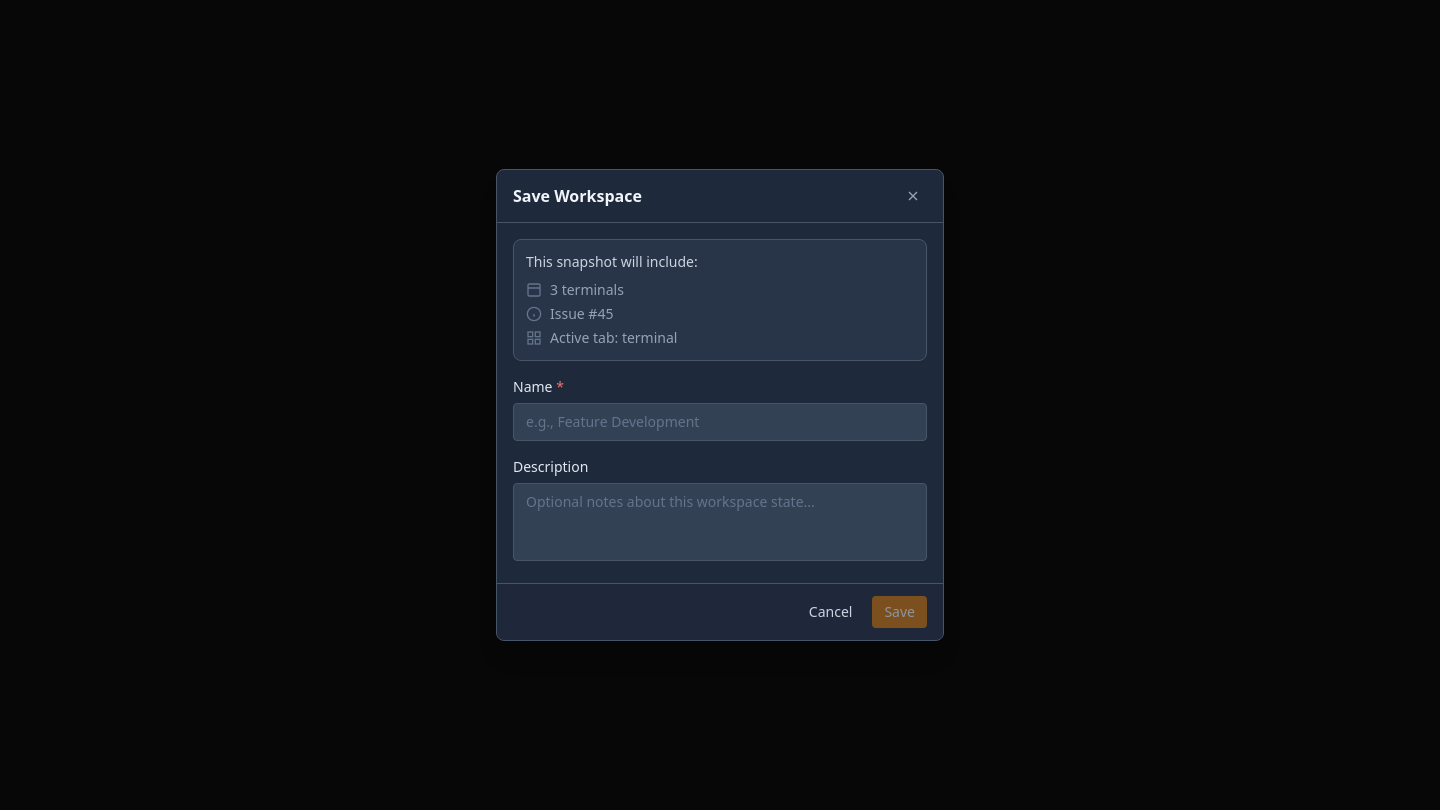
it: SaveWorkspaceDialog › Name input › should enable Save button when name is provided
Type "My Workspace" into the field labelled "Name *".
click(720, 422); type("My Workspace")  # box [513,403,927,441]
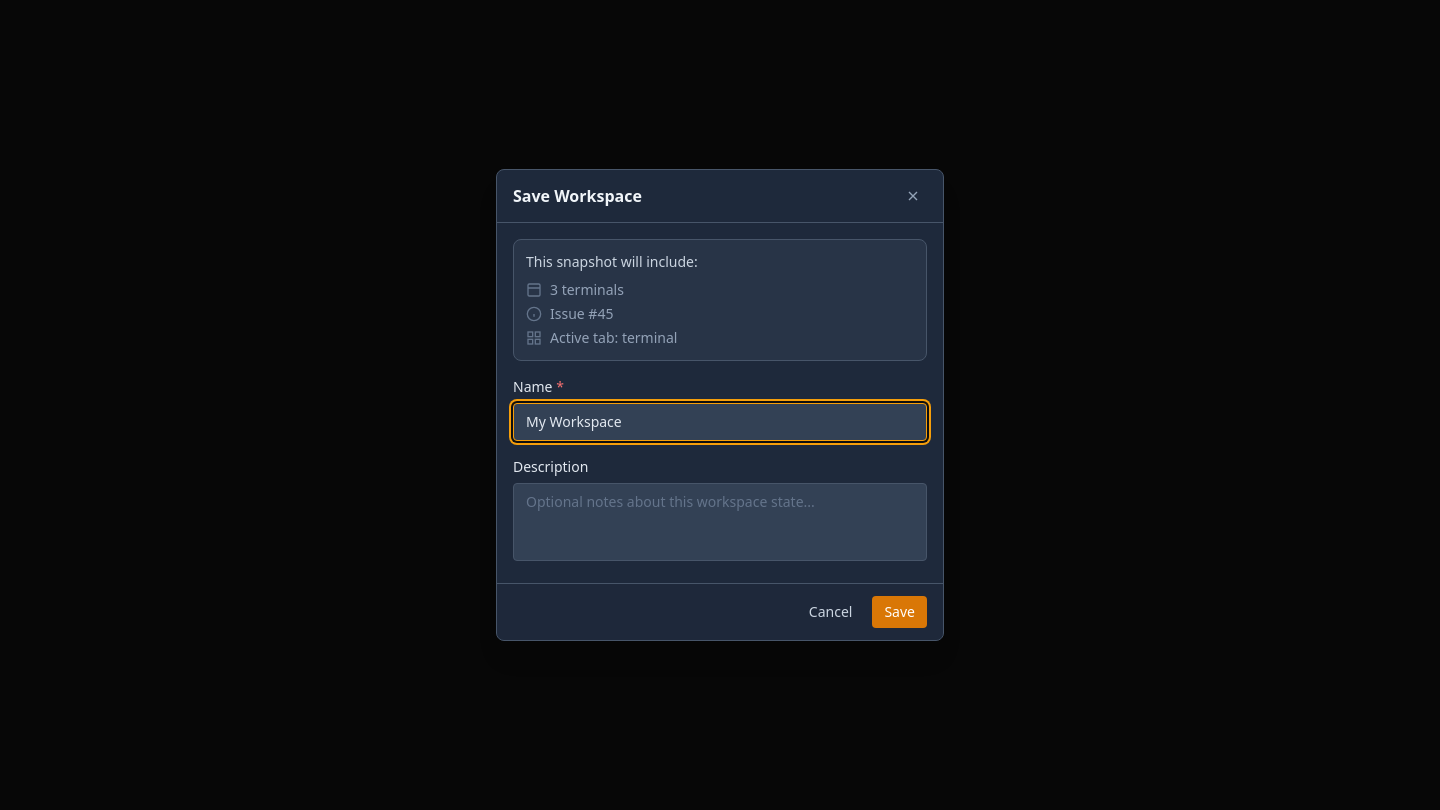
expect the button "Save" is enabled: met, box [872,596,927,628]
